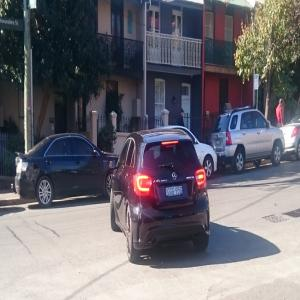Vehicle-registration-plate: (167, 186, 183, 199)
